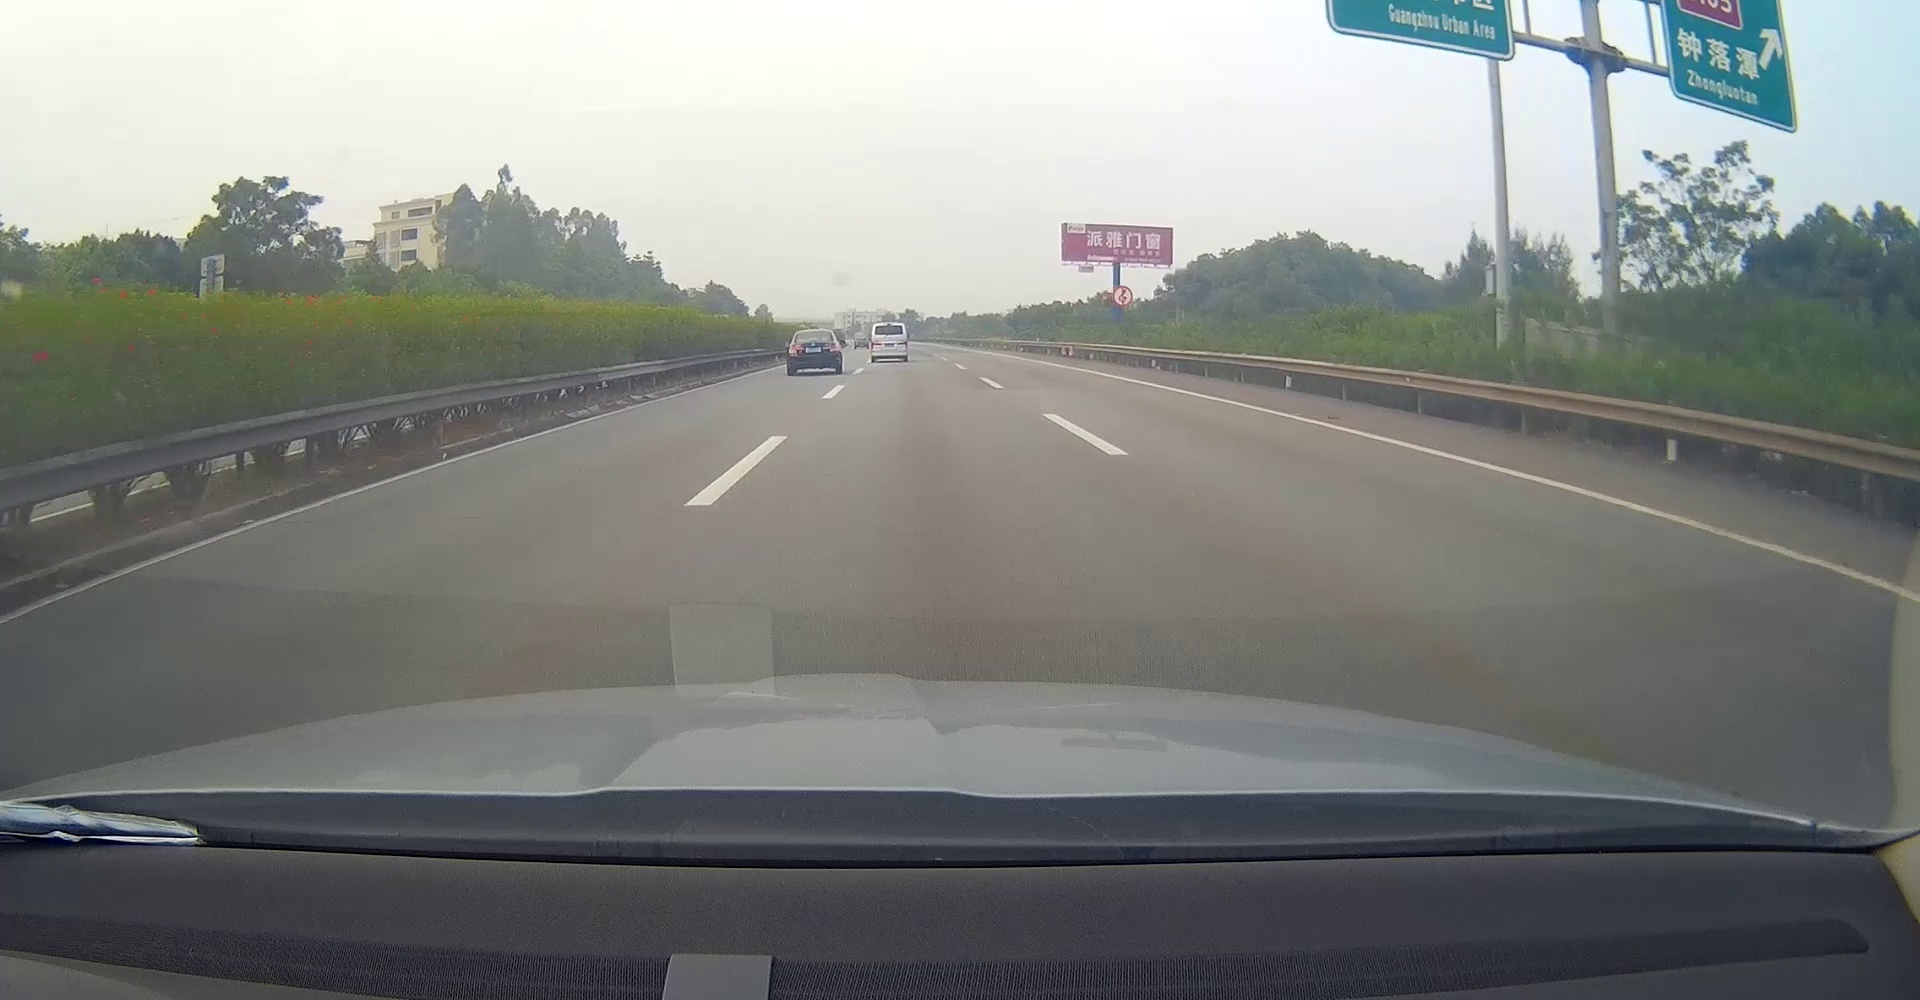L_light: (789, 345, 805, 357), (871, 341, 881, 350)
R_light: (823, 343, 841, 352), (898, 341, 907, 348), (885, 324, 891, 327)
T_light: (808, 338, 818, 340)
day-no: (786, 329, 842, 376), (870, 322, 908, 363)
